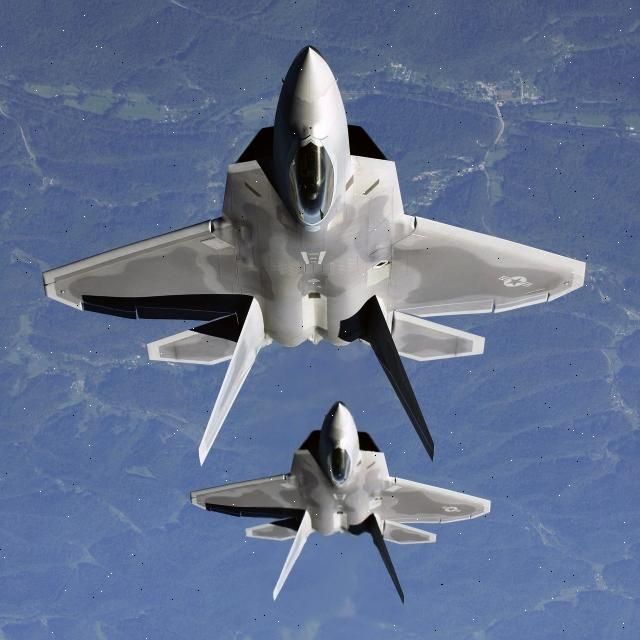F22: (5, 23, 640, 485), (172, 391, 524, 608)
